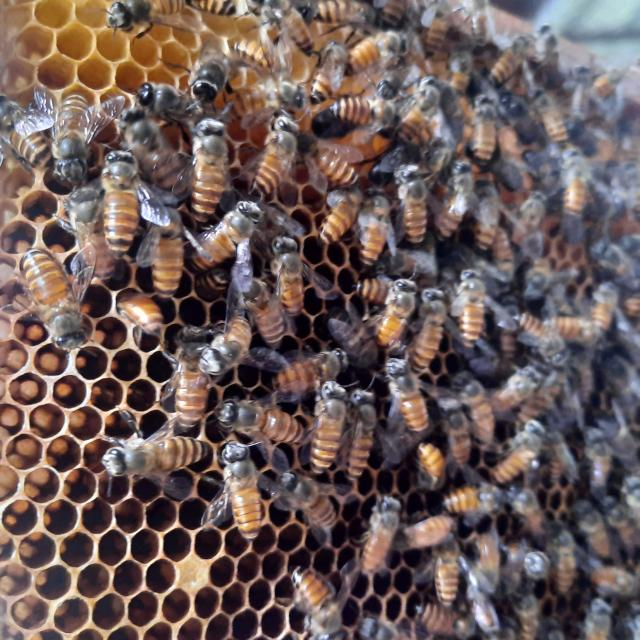honeybee: (18, 249, 86, 357), (188, 115, 234, 228), (140, 190, 186, 295), (126, 104, 182, 190), (0, 85, 52, 177), (218, 390, 306, 444), (222, 442, 266, 545), (198, 201, 264, 265), (250, 114, 300, 197), (174, 324, 214, 426), (292, 566, 346, 640), (104, 429, 202, 469), (363, 495, 407, 576), (102, 151, 139, 247), (73, 182, 108, 282), (385, 358, 430, 432), (245, 264, 283, 346), (54, 90, 86, 187), (304, 124, 355, 184), (345, 382, 377, 477), (311, 380, 344, 472), (282, 350, 348, 392), (274, 228, 304, 320), (496, 421, 544, 478), (215, 309, 255, 377), (98, 0, 186, 30), (489, 30, 543, 78), (396, 167, 429, 245), (416, 596, 474, 640), (142, 81, 198, 126), (402, 77, 442, 140), (228, 73, 296, 110), (332, 311, 377, 366), (343, 30, 409, 67), (381, 276, 412, 350), (361, 194, 391, 270), (116, 284, 161, 334), (415, 287, 443, 367), (456, 272, 486, 346), (594, 239, 639, 288), (397, 512, 458, 548), (520, 318, 560, 371), (313, 190, 362, 233), (275, 0, 311, 58), (531, 89, 568, 144), (572, 500, 607, 558), (194, 48, 236, 96), (496, 368, 536, 418), (441, 395, 468, 469), (546, 531, 578, 593), (518, 181, 550, 242), (444, 160, 469, 236), (604, 493, 634, 556), (464, 380, 494, 442), (312, 41, 345, 97), (506, 482, 542, 532), (466, 95, 495, 156), (336, 96, 396, 125), (584, 431, 612, 492), (436, 536, 462, 601), (449, 484, 505, 514), (422, 0, 452, 56), (564, 155, 594, 210), (235, 40, 286, 72), (474, 180, 497, 248), (592, 562, 640, 594), (320, 0, 373, 28), (528, 264, 580, 292), (551, 315, 596, 347), (590, 286, 620, 334), (510, 587, 537, 640), (548, 429, 570, 492), (185, 0, 260, 18), (462, 1, 490, 49), (608, 355, 632, 408), (355, 276, 400, 304), (582, 600, 611, 640), (598, 63, 624, 105), (418, 443, 443, 486), (380, 0, 415, 29), (493, 231, 515, 275), (623, 293, 640, 318)
